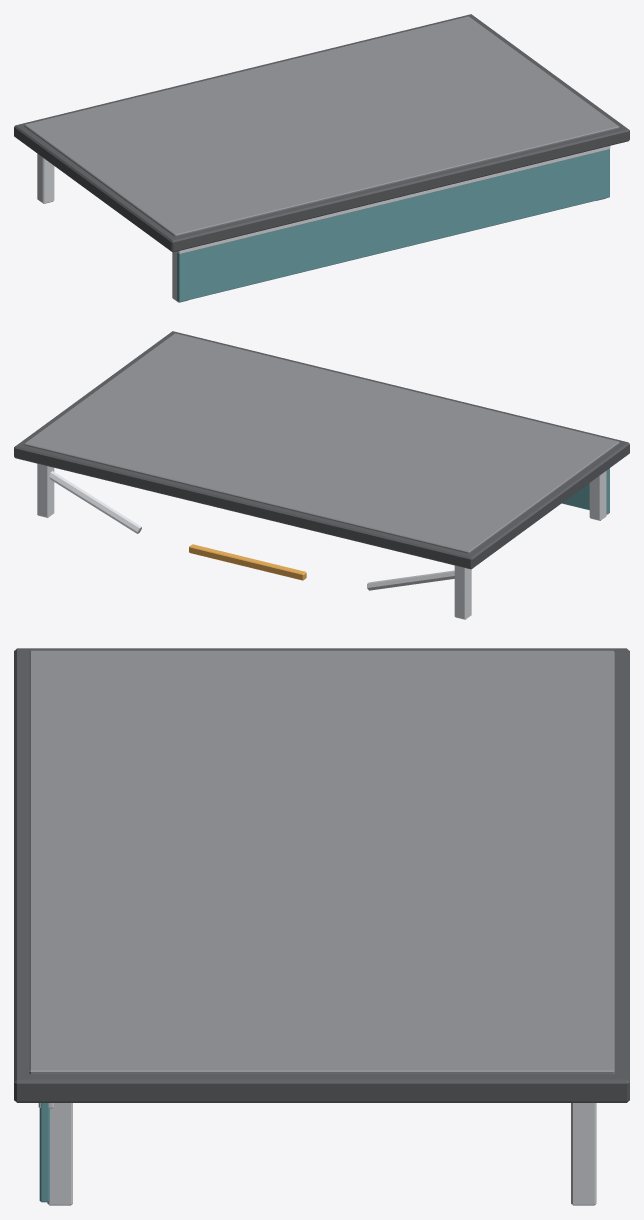
File: 35492_Riser_Platform__TV_Studio_and_Broadcast_Gallery_.glb
3 renders of one model, top to bottom at view 1: azimuth 30°, elevation 25°; view 2: azimuth 150°, elevation 25°; view 3: azimuth 270°, elevation 25°, orthographic. The views are drawn at different scales.
Parts seen in each view (by area): view 1: riser-platform; view 2: riser-platform; view 3: riser-platform.
Part boxes in pixels (x1,y1,x2,y2): riser-platform: (14,14,629,302); riser-platform: (14,331,629,619); riser-platform: (14,648,629,1205).
Bounding box in the file's own units: 2 × 0.3079 × 1.2.
